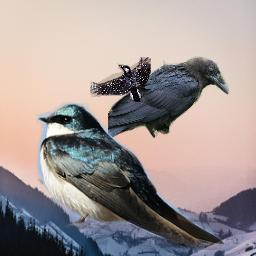Crow: (108, 56, 230, 140)
Swallow: (36, 102, 225, 250)
Woodpecker: (90, 57, 151, 102)
